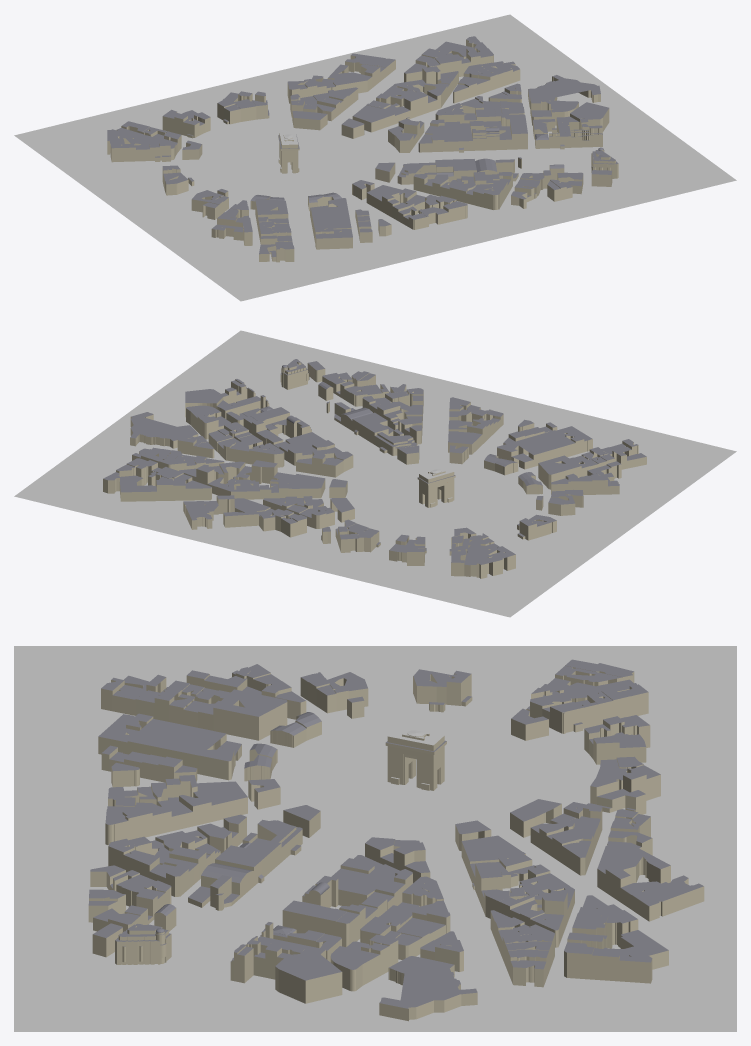
The model's file is etoile.glb.
The picture shows the model from 3 angles, top to bottom: view 1: azimuth 30°, elevation 25°; view 2: azimuth 150°, elevation 25°; view 3: azimuth 270°, elevation 25°; orthographic projection. The views are drawn at different scales.
Visible parts, largest first — view 1: Plane, Hôtel Potocki, element.074, element.155, Arc de Triomphe, element.122, element.252, element.052, element.255, element.264, element.266, element.258 (+6 smaller); view 2: Plane, Hôtel Potocki, element.155, Arc de Triomphe, element.122, element.258, element.107, element.200, element.252, element.041, element.266, element.074 (+9 smaller); view 3: Plane, Hôtel Potocki, Arc de Triomphe, element.258, element.155, element.052, element.266, element.041, element.074, element.122, element.240, element.070 (+54 smaller).
Part boxes in pixels (x1=…): Plane: x1=14, y1=14, x2=736, y2=301; Hôtel Potocki: x1=528, y1=75, x2=600, y2=108; element.074: x1=425, y1=121, x2=472, y2=151; element.155: x1=310, y1=207, x2=351, y2=239; Arc de Triomphe: x1=278, y1=131, x2=299, y2=173; element.122: x1=327, y1=64, x2=372, y2=93; element.252: x1=352, y1=105, x2=394, y2=132; element.052: x1=570, y1=102, x2=609, y2=131; element.255: x1=315, y1=229, x2=352, y2=249; element.264: x1=116, y1=128, x2=175, y2=161; element.266: x1=345, y1=53, x2=395, y2=76; element.258: x1=255, y1=199, x2=288, y2=228; Plane: x1=14, y1=330, x2=736, y2=617; Hôtel Potocki: x1=130, y1=412, x2=198, y2=448; element.155: x1=514, y1=430, x2=575, y2=466; Arc de Triomphe: x1=417, y1=466, x2=455, y2=507; element.122: x1=223, y1=498, x2=270, y2=527; element.258: x1=538, y1=455, x2=581, y2=489; element.107: x1=119, y1=475, x2=156, y2=501; element.200: x1=476, y1=551, x2=515, y2=578; element.252: x1=290, y1=474, x2=325, y2=498; element.041: x1=280, y1=359, x2=309, y2=389; element.266: x1=183, y1=501, x2=212, y2=529; element.074: x1=279, y1=432, x2=325, y2=461; Plane: x1=14, y1=646, x2=736, y2=1031; Hôtel Potocki: x1=379, y1=956, x2=477, y2=1021; Arc de Triomphe: x1=385, y1=726, x2=446, y2=790; element.258: x1=213, y1=689, x2=287, y2=740; element.155: x1=127, y1=719, x2=226, y2=774; element.052: x1=275, y1=953, x2=342, y2=1003; element.266: x1=631, y1=875, x2=704, y2=921; element.041: x1=115, y1=923, x2=171, y2=964; element.074: x1=331, y1=864, x2=405, y2=906; element.122: x1=597, y1=846, x2=670, y2=892; element.240: x1=330, y1=946, x2=380, y2=991; element.070: x1=282, y1=900, x2=346, y2=935.
Size of the model in its own units: 854 by 50 by 676.
